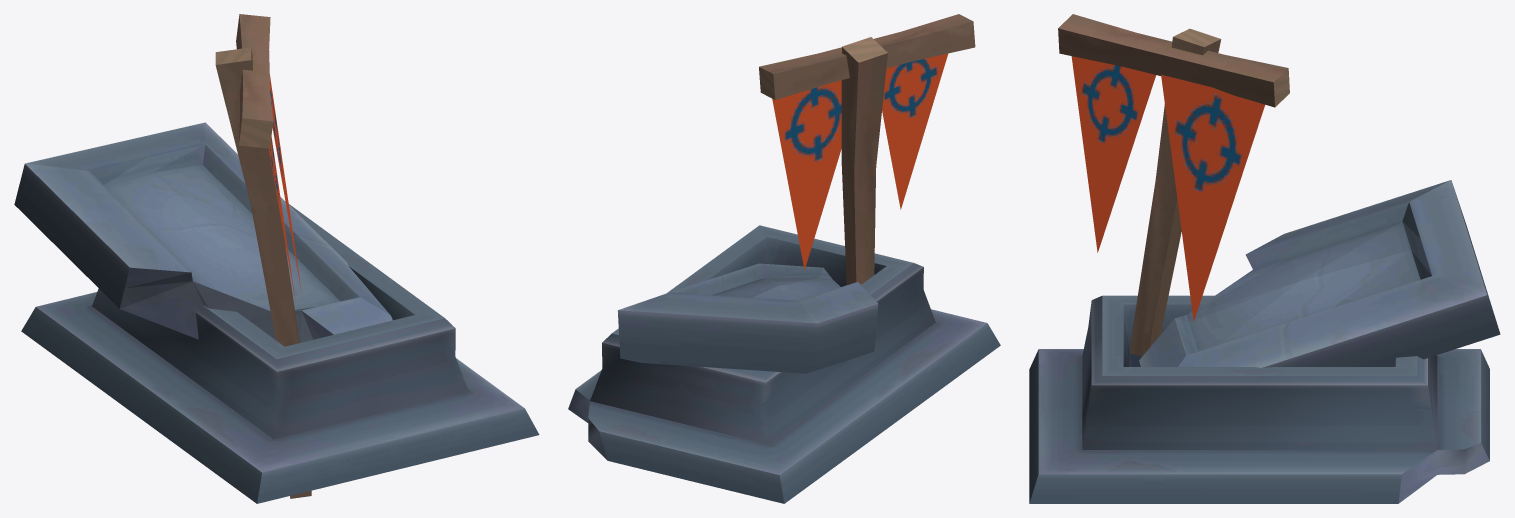
File: Obstacle1B-004_02_20_1304.fbx
The picture shows the model from 3 angles, left to right: view 1: azimuth 30°, elevation 25°; view 2: azimuth 150°, elevation 25°; view 3: azimuth 270°, elevation 25°; orthographic projection. The views are drawn at different scales.
Parts seen in each view (by area): view 1: CoffinBaseBroken1, CoffinCoverBroken1, Wood1.002 (1), WoodTop (1), Flag1.001 (2); view 2: CoffinBaseBroken1, CoffinCoverBroken1, Wood1.002 (1), Flag1.001 (2), WoodTop (1), Flag1.001 (1); view 3: CoffinBaseBroken1, CoffinCoverBroken1, Flag1.001 (2), WoodTop (1), Flag1.001 (1), Wood1.002 (1).
Part boxes in pixels (x1=…): CoffinBaseBroken1: x1=21, y1=201, x2=539, y2=503; CoffinCoverBroken1: x1=14, y1=122, x2=392, y2=342; Wood1.002 (1): x1=215, y1=47, x2=311, y2=498; WoodTop (1): x1=236, y1=14, x2=273, y2=148; Flag1.001 (2): x1=269, y1=74, x2=302, y2=296; CoffinBaseBroken1: x1=568, y1=225, x2=1000, y2=503; CoffinCoverBroken1: x1=617, y1=263, x2=878, y2=373; Wood1.002 (1): x1=841, y1=37, x2=887, y2=284; Flag1.001 (2): x1=772, y1=80, x2=841, y2=269; WoodTop (1): x1=759, y1=14, x2=975, y2=99; Flag1.001 (1): x1=882, y1=53, x2=947, y2=209; CoffinBaseBroken1: x1=1029, y1=295, x2=1489, y2=503; CoffinCoverBroken1: x1=1139, y1=180, x2=1500, y2=367; Flag1.001 (2): x1=1161, y1=74, x2=1264, y2=321; WoodTop (1): x1=1058, y1=14, x2=1289, y2=107; Flag1.001 (1): x1=1071, y1=56, x2=1156, y2=252; Wood1.002 (1): x1=1130, y1=28, x2=1221, y2=356.
Bounding box in the file's own units: 2.53 × 3.42 × 3.5.
